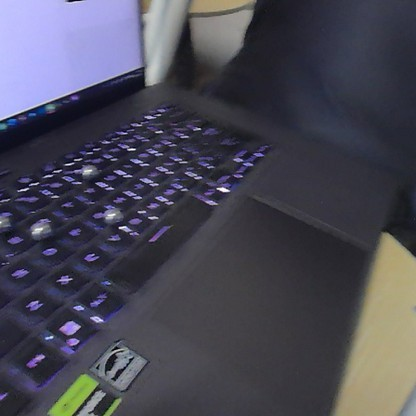ironball: (28, 214, 55, 243), (101, 200, 122, 228), (78, 160, 100, 182), (0, 209, 13, 233)
